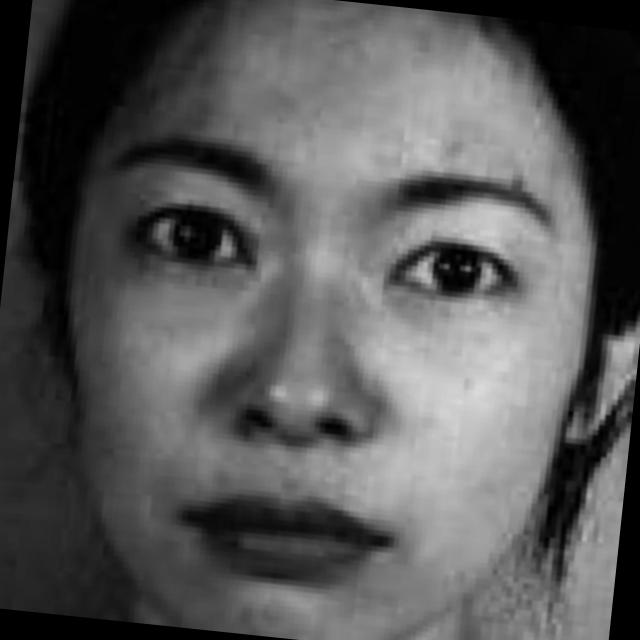fear: (25, 26, 596, 640)
